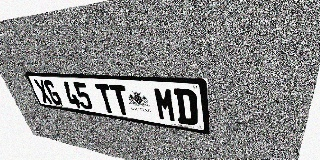4: (61, 81, 82, 109)
5: (73, 82, 94, 110)
D: (174, 88, 198, 126)
G: (43, 80, 63, 106)
M: (153, 87, 177, 123)
T: (109, 84, 132, 116), (94, 83, 117, 114)
X: (33, 79, 53, 104)
